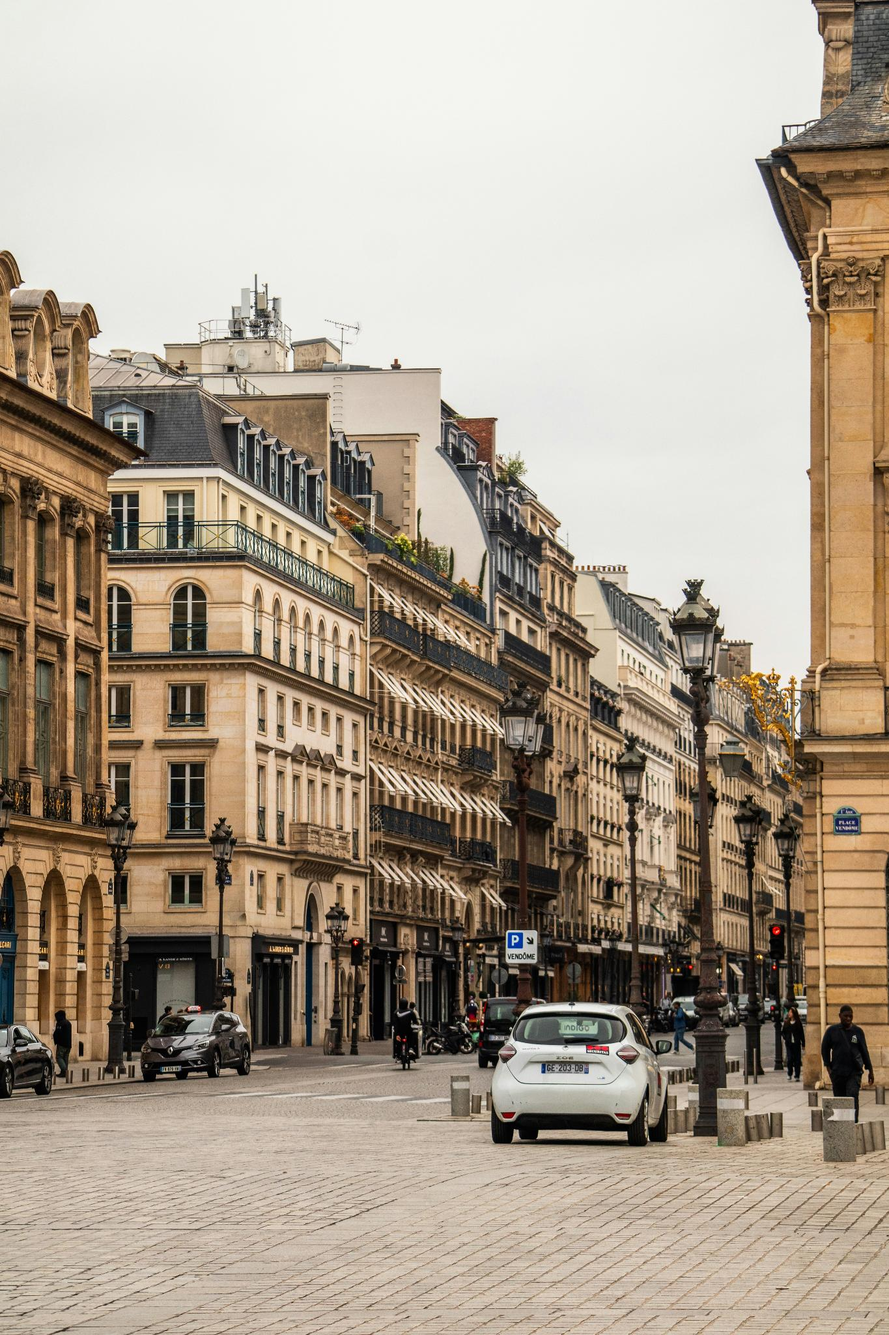car: (490, 1002, 669, 1150), (142, 1008, 252, 1080), (0, 1024, 53, 1098), (477, 1001, 519, 1070), (676, 993, 699, 1033)
pedestrian: (821, 1002, 876, 1099), (393, 1001, 421, 1070), (784, 1005, 804, 1084), (54, 1009, 72, 1082), (670, 1002, 694, 1055)
